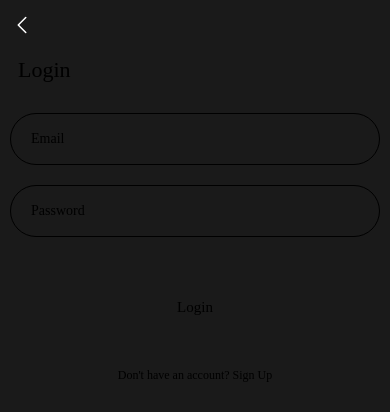
LoginScreen › Validation › Password Validation › should show error when password is empty
# Fill email but leave password empty
In the field with placeholder "Email": (195, 139) [11,114,379,164], type "test@example.com"
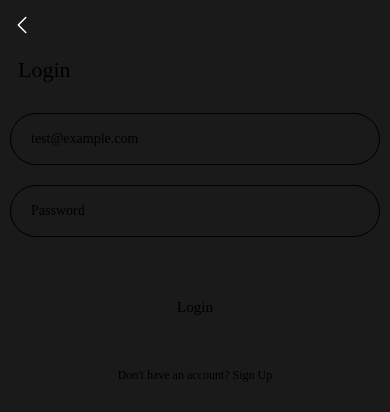
Click the element with test id "Login": click(195, 307) [177,299,213,315]
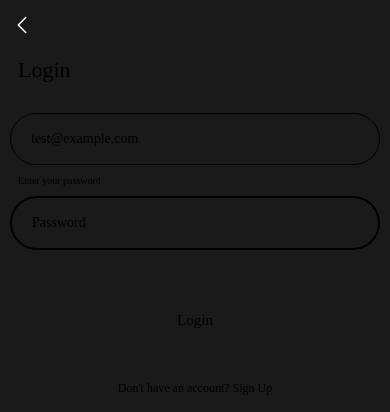
Now the text "Enter your password" is shown, box [18,175,101,186]
